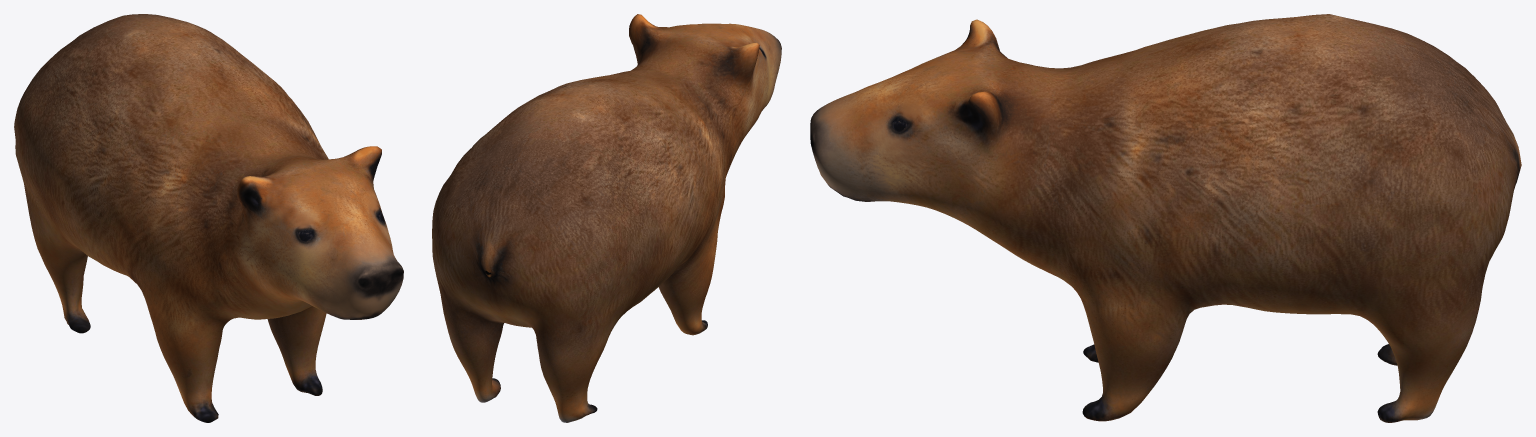
File: uploads_files_5014808_Capybara_Quad.fbx
The picture shows the model from 3 angles, left to right: view 1: azimuth 30°, elevation 25°; view 2: azimuth 150°, elevation 25°; view 3: azimuth 270°, elevation 25°; orthographic projection. The views are drawn at different scales.
Parts seen in each view (by area): view 1: Capybara_Quad; view 2: Capybara_Quad; view 3: Capybara_Quad.
Boxes of the visible parts, x1,y1,x2,y2 form: Capybara_Quad: (14, 14, 403, 422); Capybara_Quad: (432, 14, 781, 422); Capybara_Quad: (810, 14, 1521, 422).
Bounding box in the file's own units: 52.55 × 70.71 × 125.
